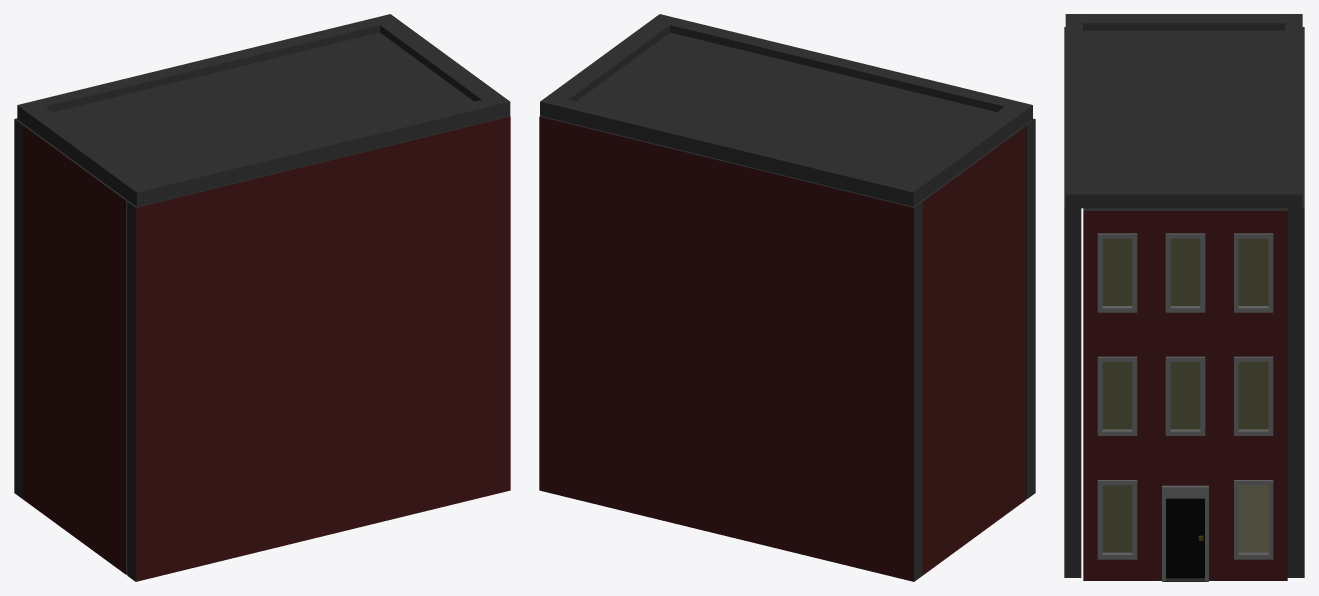
Rendered from Red_Skinny_Apartment.dae.
3 renders of one model, left to right at view 1: azimuth 30°, elevation 25°; view 2: azimuth 150°, elevation 25°; view 3: azimuth 270°, elevation 25°, orthographic.
Parts seen in each view (by area): view 1: pCube66; view 2: pCube66; view 3: pCube66.
Boxes of the visible parts, x1=… form: pCube66: x1=14, y1=14, x2=510, y2=581; pCube66: x1=539, y1=14, x2=1035, y2=581; pCube66: x1=1064, y1=14, x2=1304, y2=581.
Bounding box in the file's own units: 4.38 × 4.28 × 2.42.
